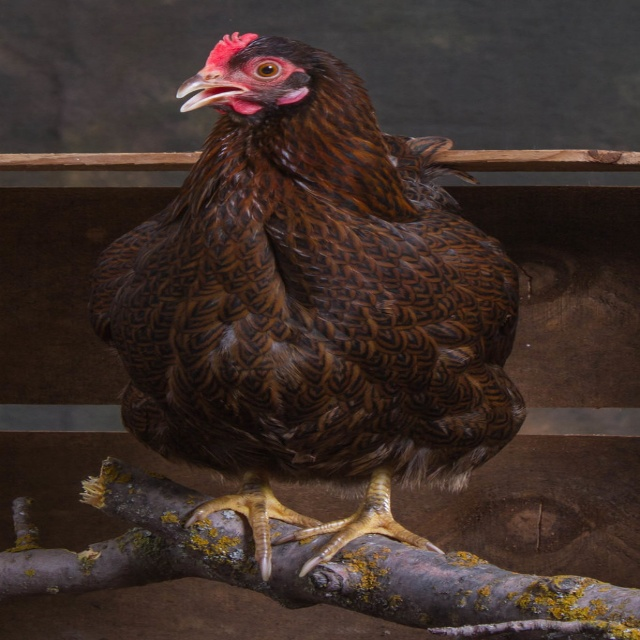Chicken: (87, 32, 528, 581)
